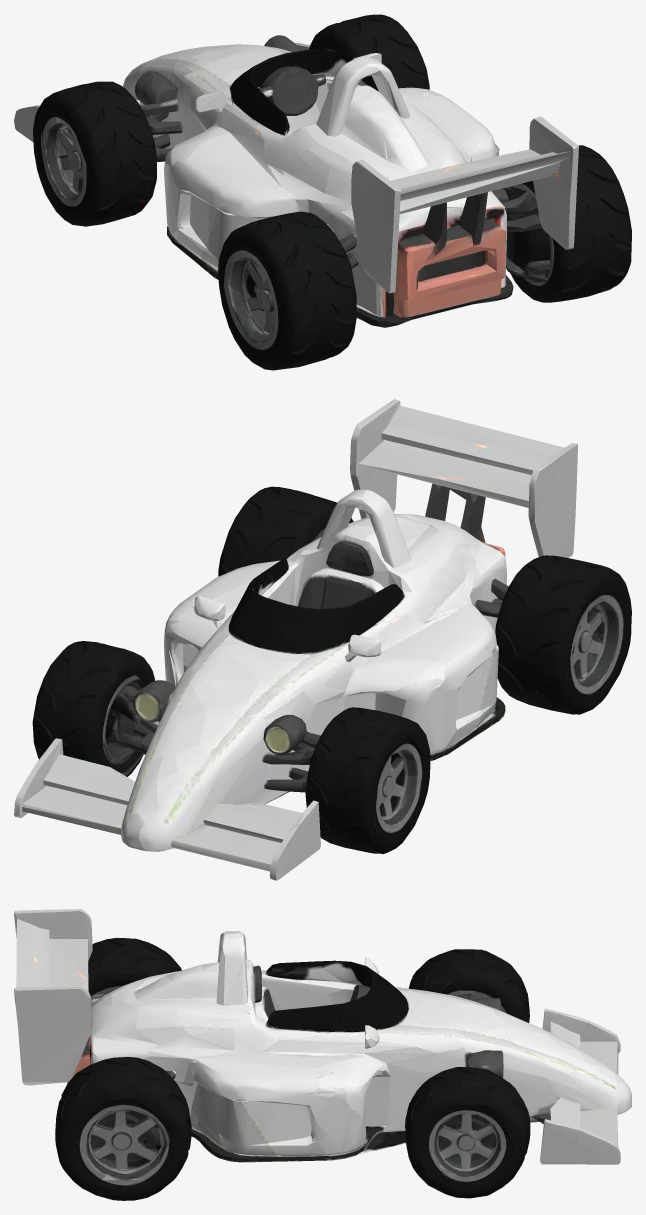
The model's file is formula.glb.
The picture shows the model from 3 angles, top to bottom: view 1: azimuth 30°, elevation 25°; view 2: azimuth 150°, elevation 25°; view 3: azimuth 270°, elevation 25°; orthographic projection. The views are drawn at different scales.
Parts seen in each view (by area): view 1: formula; view 2: formula; view 3: formula.
Boxes of the visible parts, bbox=[...] form: formula: bbox=[14, 14, 631, 370]; formula: bbox=[14, 399, 631, 880]; formula: bbox=[14, 909, 631, 1200].
Size of the model in its own units: 2.6 by 1.57 by 4.5.
Materials: 1 (1 with a texture image).
